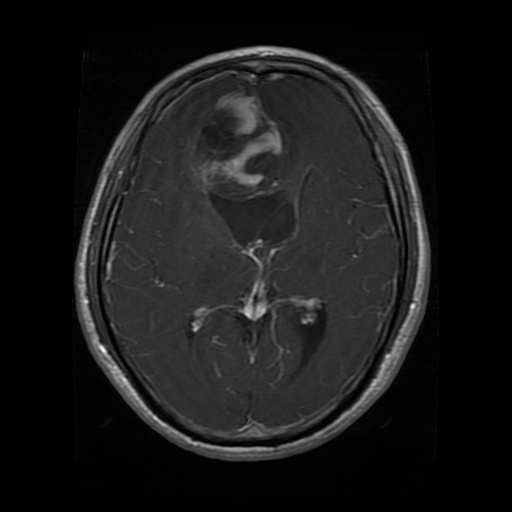glioma: (208, 167, 303, 254)
